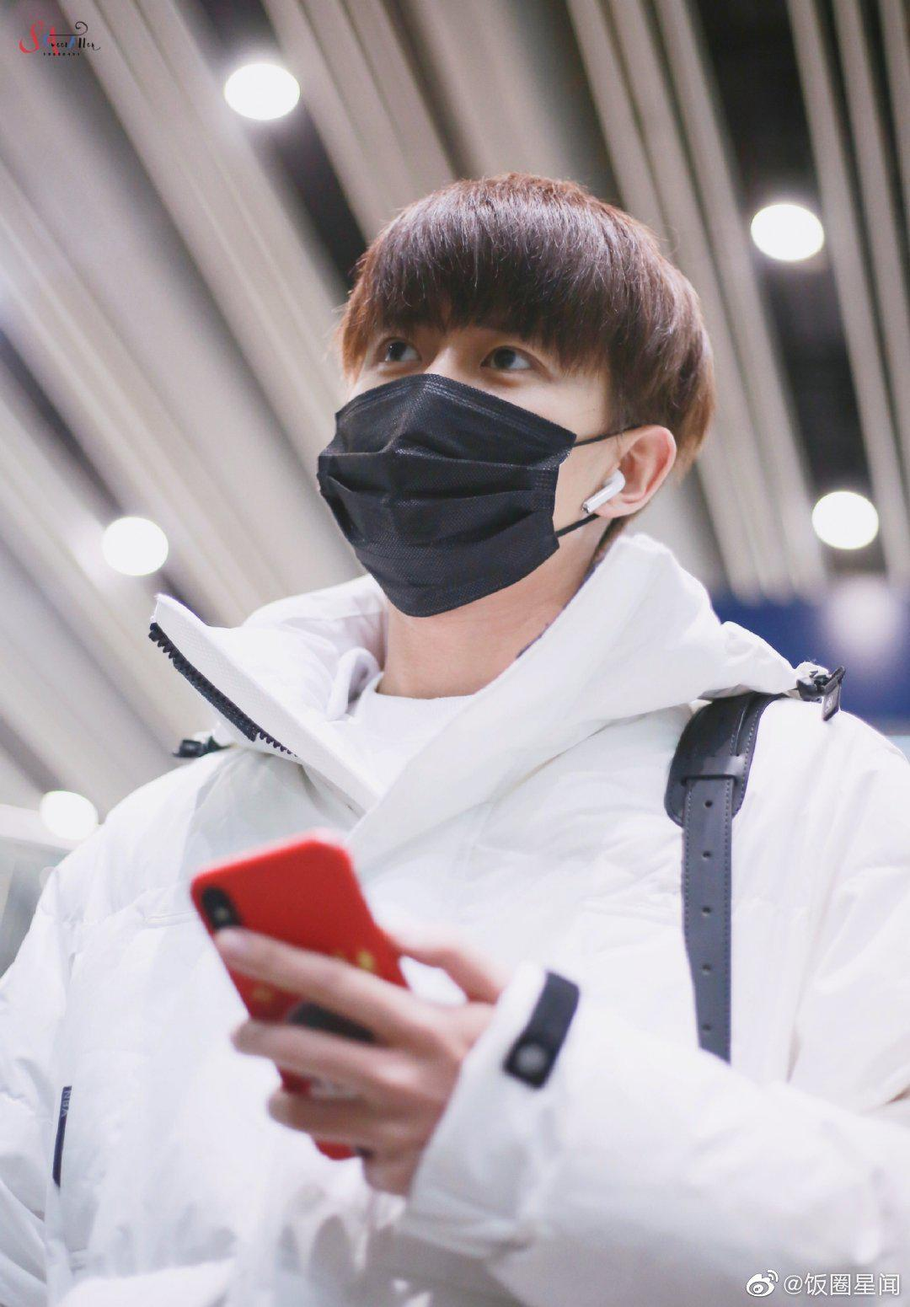OK: (316, 324, 585, 616)
